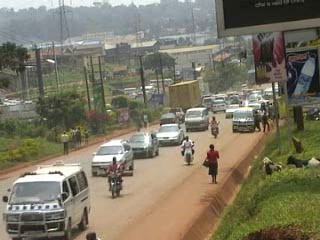Car: (88, 137, 135, 179), (126, 130, 159, 160), (155, 120, 186, 145), (157, 111, 182, 126), (221, 102, 243, 119), (209, 97, 228, 115)
Motorcycle: (103, 154, 133, 200), (178, 134, 197, 167), (207, 113, 222, 139)
